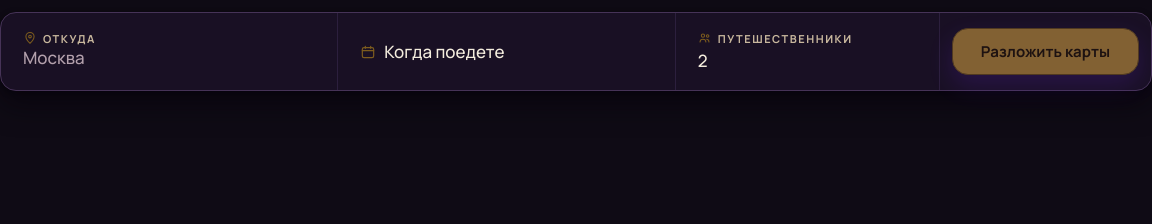
Test: TripSearchForm › offers Tutu locality suggestions as you type and fills the field on pick
This screenshot has width=1152, height=224.
Type "Казан" into the dropdown labelled "Откуда" at (169, 58), box [23,47,315,70]
Wait 200 ms
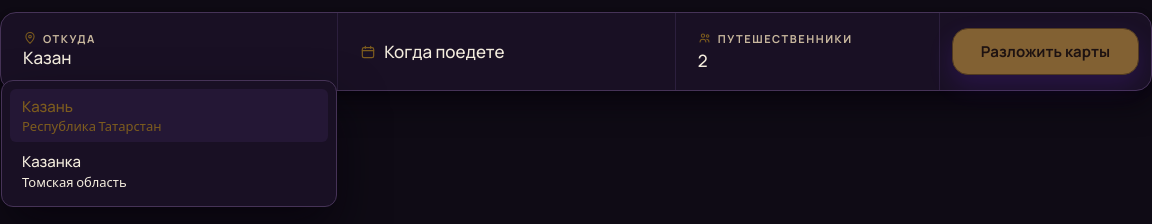
Now the option "Казань Республика Татарстан" is shown
Press the mouse on the option "Казань Республика Татарстан" at (47, 106), box [10,89,328,142]
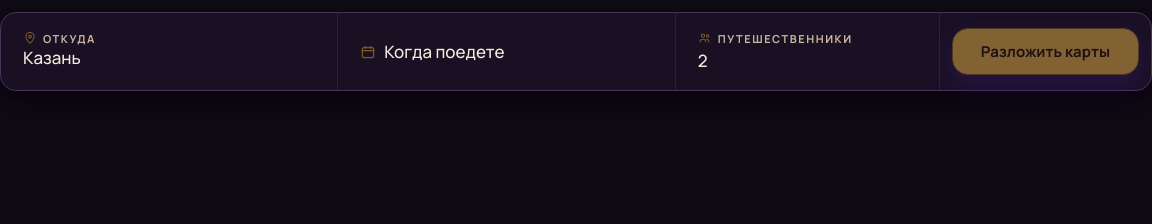
Now the dropdown labelled "Откуда" holds "Казань", box [23,47,315,70]
